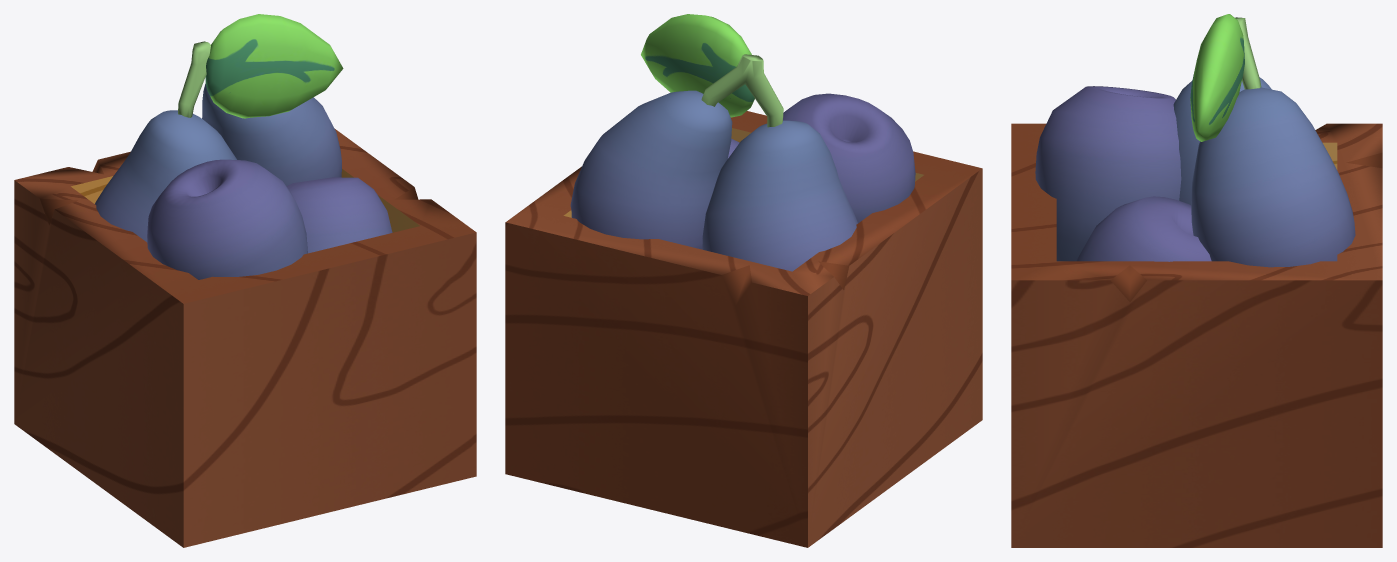
Rendered from Box_Lonicera.fbx.
3 views of the same model, side by side, from view 1: azimuth 30°, elevation 25°; view 2: azimuth 150°, elevation 25°; view 3: azimuth 270°, elevation 25° (orthographic). The views are drawn at different scales.
Visible parts, largest first — view 1: Box_Lonicera; view 2: Box_Lonicera; view 3: Box_Lonicera.
Part boxes in pixels (x1=…): Box_Lonicera: x1=14, y1=14, x2=476, y2=547; Box_Lonicera: x1=505, y1=14, x2=982, y2=547; Box_Lonicera: x1=1011, y1=14, x2=1382, y2=547.
Bounding box in the file's own units: 82.82 × 114 × 82.82.
Materials: 2 (2 with a texture image).
